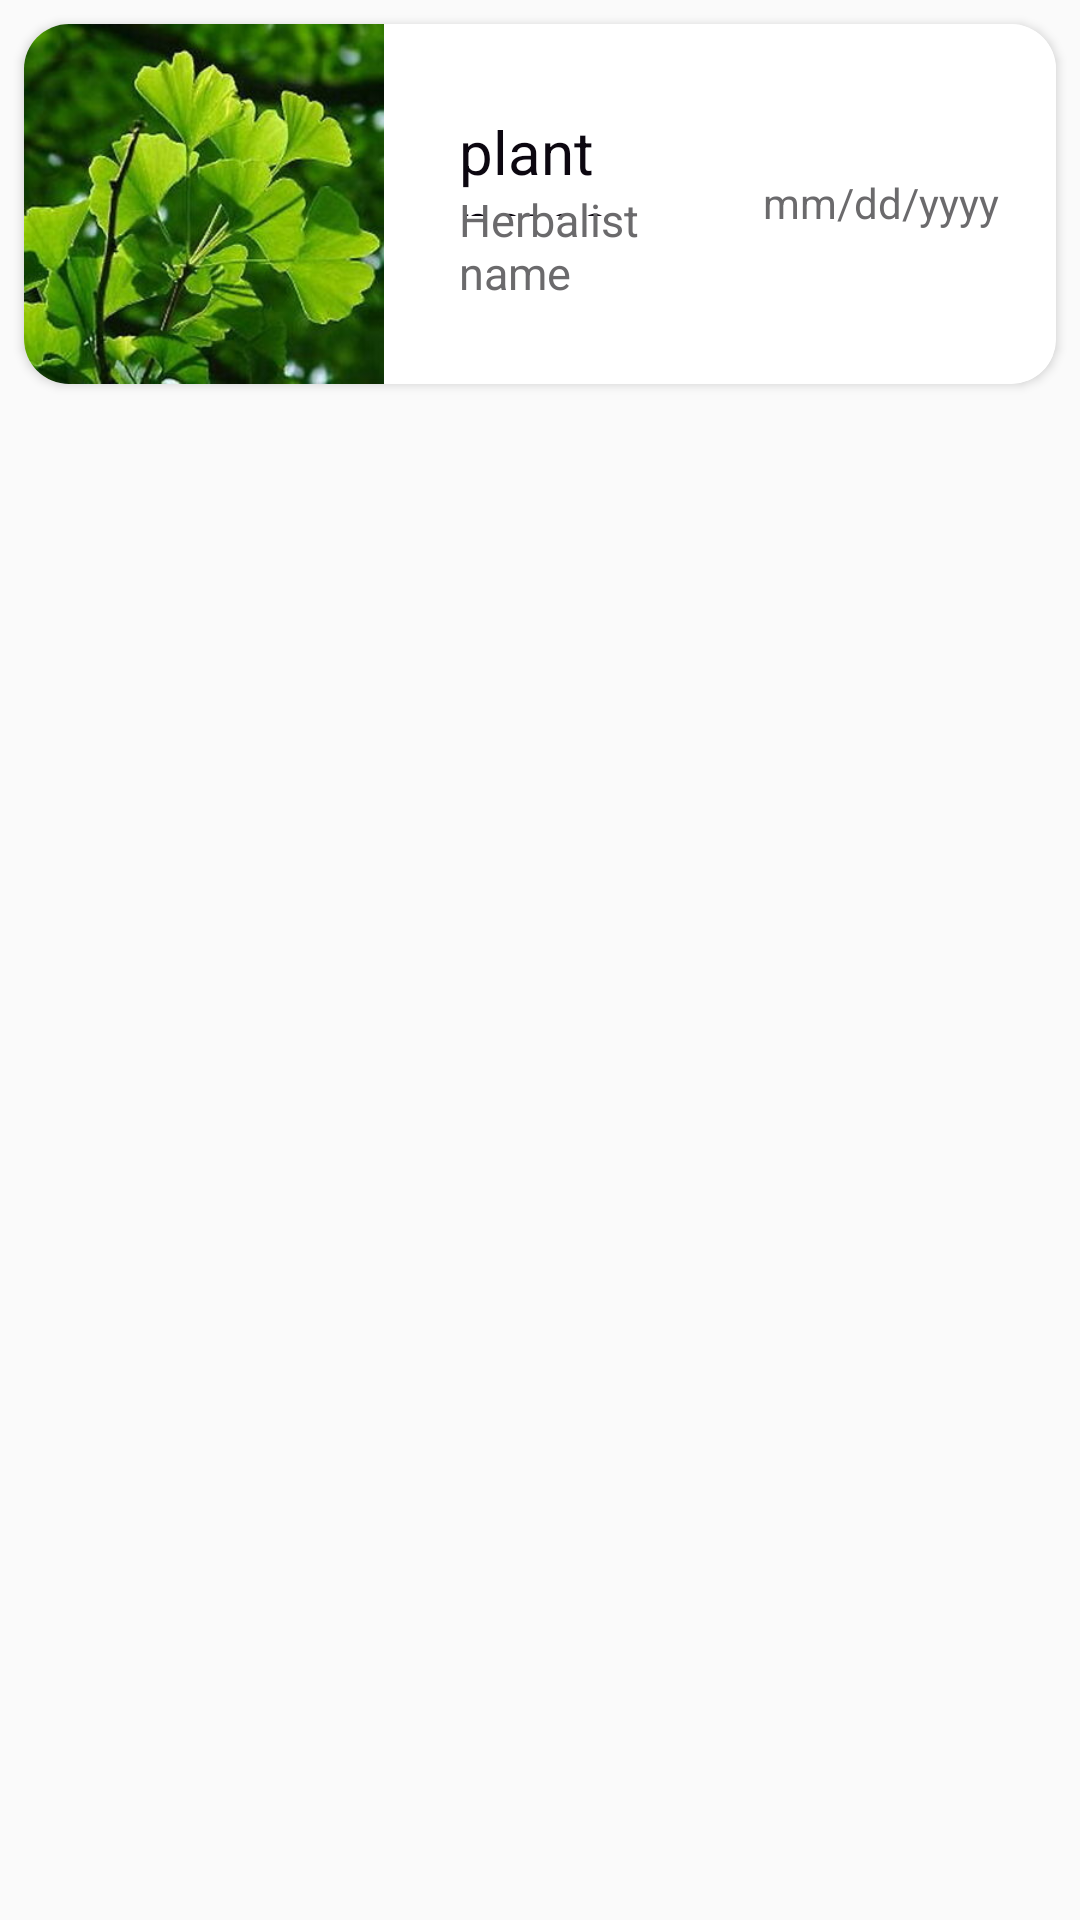

Where icons sit on this 1080 x 1920 app screen, as [x1,y1,x2,y2]:
gingko: [24,24,384,384]
